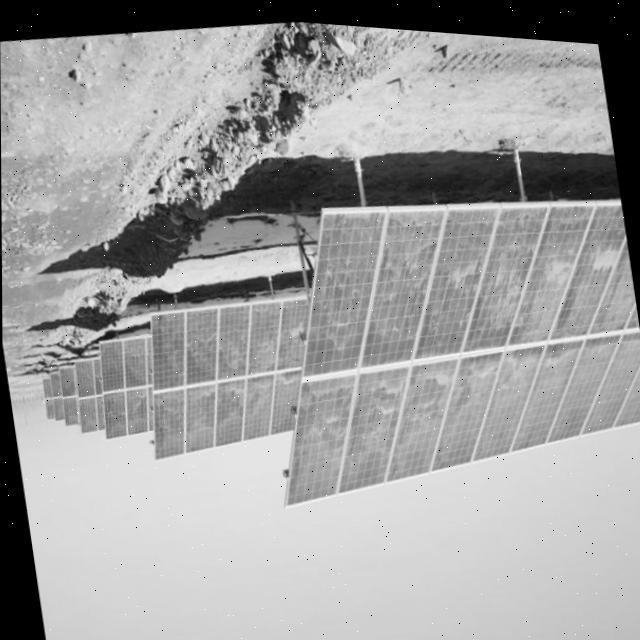Anomaly Solar Panel: (285, 323, 640, 504), (302, 193, 639, 372), (150, 292, 310, 389), (153, 363, 301, 459)
Surface Contaminant: (461, 199, 549, 346), (418, 202, 500, 355), (306, 206, 386, 351), (513, 197, 594, 338), (546, 196, 626, 334), (369, 202, 447, 341), (335, 361, 408, 491), (286, 369, 357, 502), (385, 352, 458, 477), (429, 350, 501, 467), (470, 343, 540, 456), (544, 333, 617, 437), (511, 339, 580, 445), (580, 327, 640, 427), (588, 243, 635, 327), (185, 306, 218, 381), (247, 301, 281, 372), (218, 302, 250, 374), (152, 389, 184, 459), (150, 309, 184, 373), (277, 293, 308, 363), (241, 372, 275, 435), (186, 381, 215, 449), (268, 369, 299, 432), (215, 375, 245, 439)
